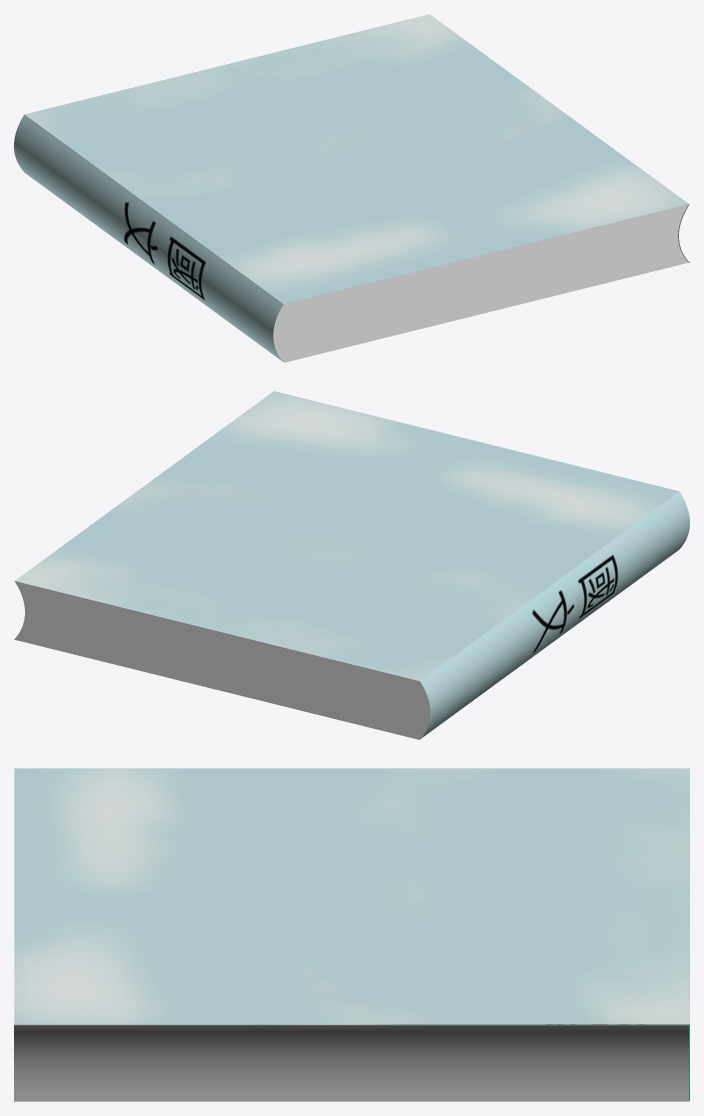
3 renders of one model, top to bottom at view 1: azimuth 30°, elevation 25°; view 2: azimuth 150°, elevation 25°; view 3: azimuth 270°, elevation 25°, orthographic. The views are drawn at different scales.
Visible parts, largest first — view 1: Arc001; view 2: Arc001; view 3: Arc001, Arc002.
Boxes of the visible parts, bbox=[...] form: Arc001: bbox=[14, 14, 688, 362]; Arc001: bbox=[14, 391, 689, 739]; Arc001: bbox=[14, 768, 689, 1100]; Arc002: bbox=[14, 1024, 688, 1101].
Size of the model in its own units: 8.7 by 1.2 by 9.39.
2 materials, 1 textured.
